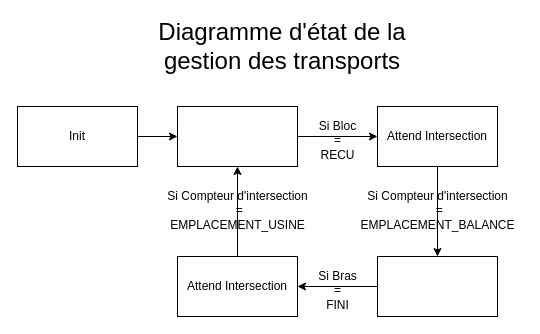
The diagram is 540 pixels wide and 334 high, and some of its shapes have lost their labels. The box of each missing label's shape, as (x1, y1, x2, y2) in pixels:
Attend Bras fini: (376, 256, 498, 316)
Attend un bloc: (176, 106, 298, 166)
